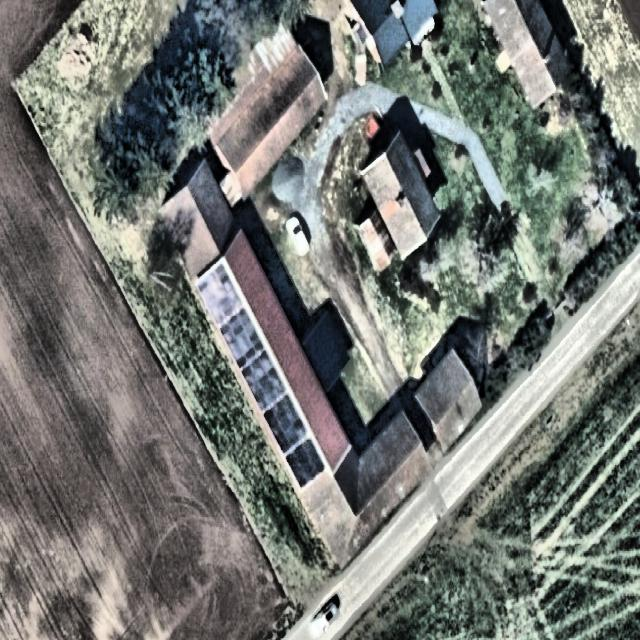roof_pv: (220, 308, 264, 367), (242, 348, 284, 409), (264, 392, 308, 449), (198, 264, 242, 320), (284, 438, 327, 490)
